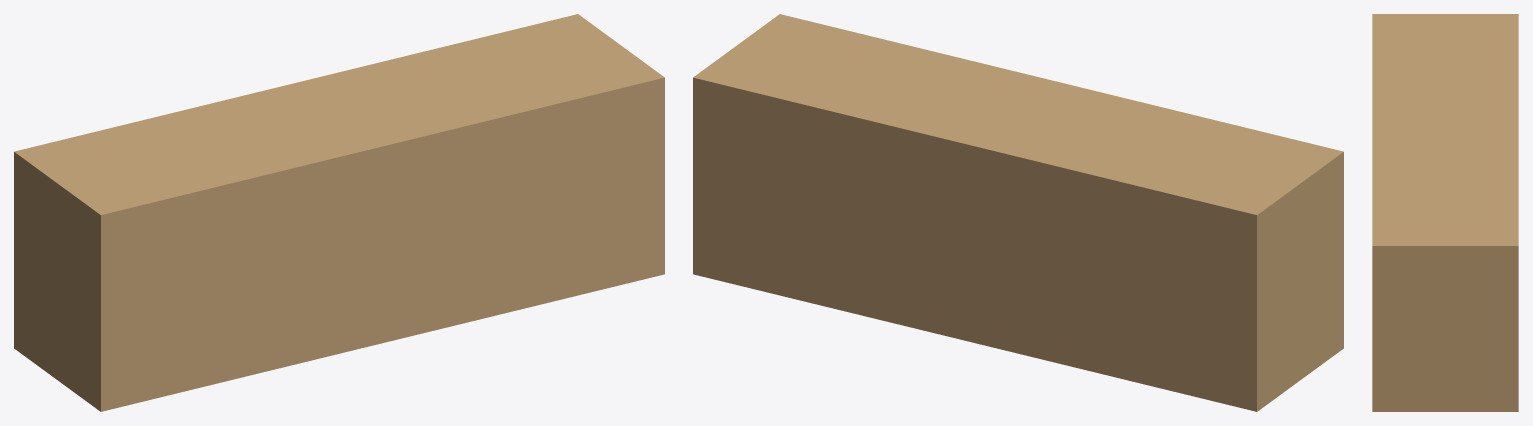
3 views of the same model, side by side, from view 1: azimuth 30°, elevation 25°; view 2: azimuth 150°, elevation 25°; view 3: azimuth 270°, elevation 25° (orthographic). The views are drawn at different scales.
Visible parts, largest first — view 1: tv-stand; view 2: tv-stand; view 3: tv-stand.
Part boxes in pixels (left/top/right/bottom): tv-stand: left=14, top=14, right=664, bottom=411; tv-stand: left=693, top=14, right=1343, bottom=411; tv-stand: left=1372, top=14, right=1518, bottom=411.
Size of the model in its own units: 1.5 by 0.5 by 0.4.
